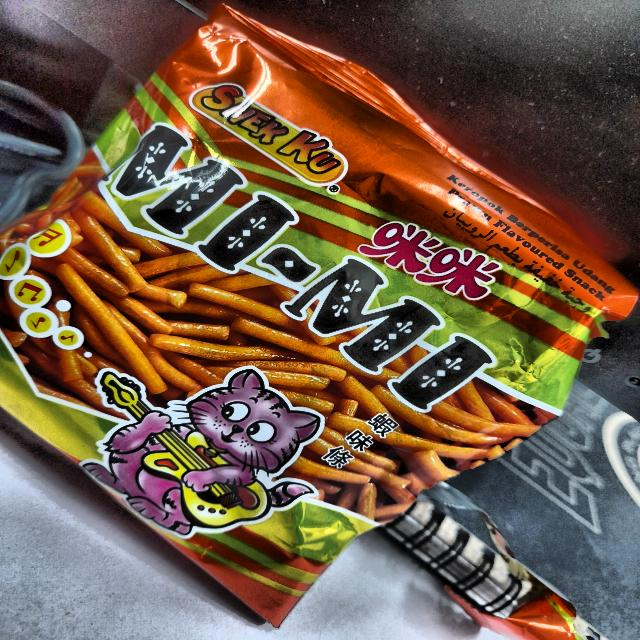Plastic: (26, 1, 610, 626)
